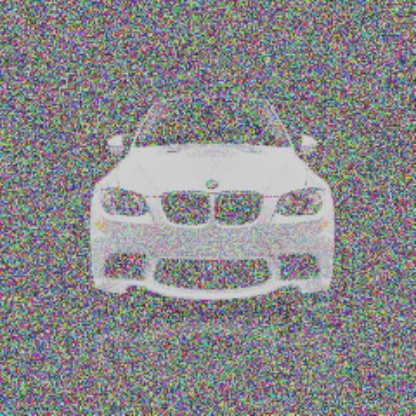Vehicle: (89, 93, 335, 319)
